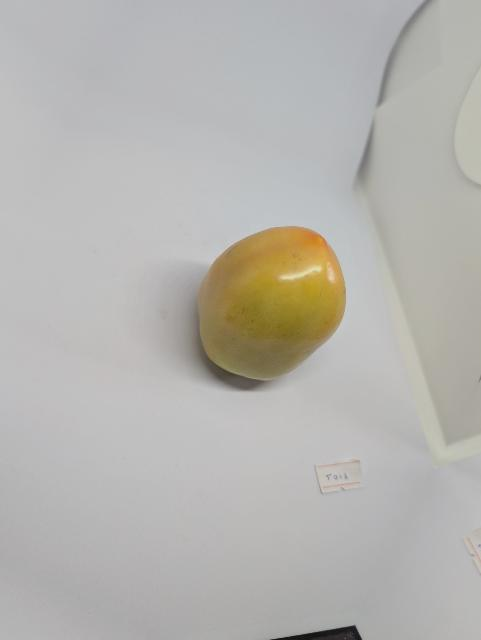turning: (198, 227, 346, 380)
